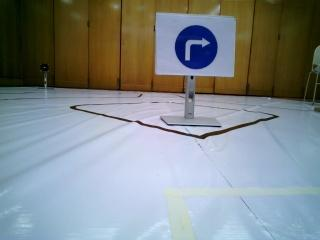right: (156, 12, 234, 75)
